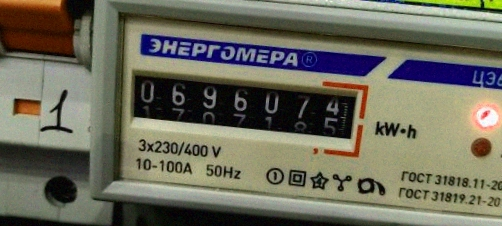0: (136, 76, 156, 103), (261, 87, 280, 115)
4: (323, 93, 340, 116)
5: (321, 115, 337, 136)
6: (167, 79, 187, 106), (230, 84, 249, 112)
7: (292, 92, 311, 119)
9: (198, 82, 218, 110)
screen: (118, 55, 371, 159)
